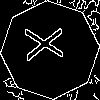X: (25, 25, 73, 62)
